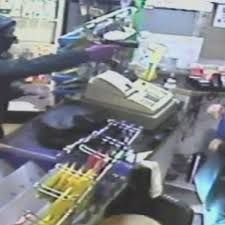gun: (91, 30, 144, 70)
